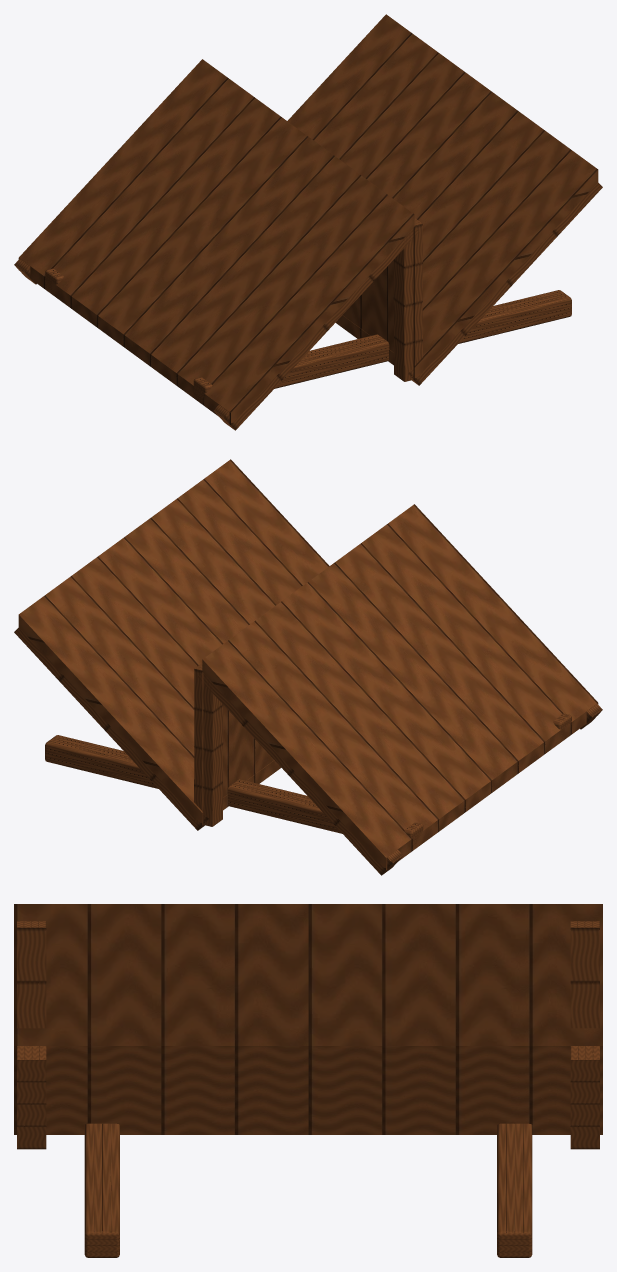
File: roadside-survival-stops-service-bay-roof-63aa59ce__23519.glb
3 renders of one model, top to bottom at view 1: azimuth 30°, elevation 25°; view 2: azimuth 150°, elevation 25°; view 3: azimuth 270°, elevation 25°, orthographic. The views are drawn at different scales.
Parts seen in each view (by area): view 1: service-bay-roof; view 2: service-bay-roof; view 3: service-bay-roof.
Boxes of the visible parts, x1,y1,x2,y2 form: service-bay-roof: (14, 14, 602, 430); service-bay-roof: (14, 459, 602, 875); service-bay-roof: (14, 904, 602, 1257).
Size of the model in its own units: 2.06 by 0.9039 by 2.
Materials: 1 (1 with a texture image).
